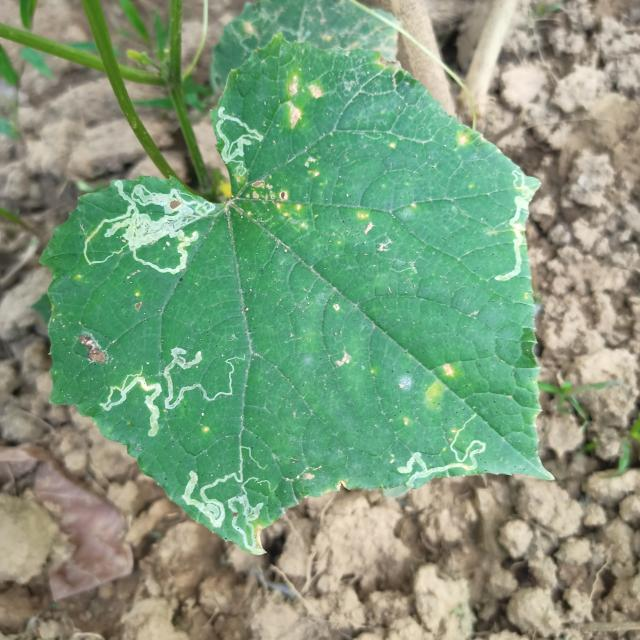disease_cucumber: (248, 176, 316, 236), (280, 72, 327, 133), (422, 359, 460, 413)
